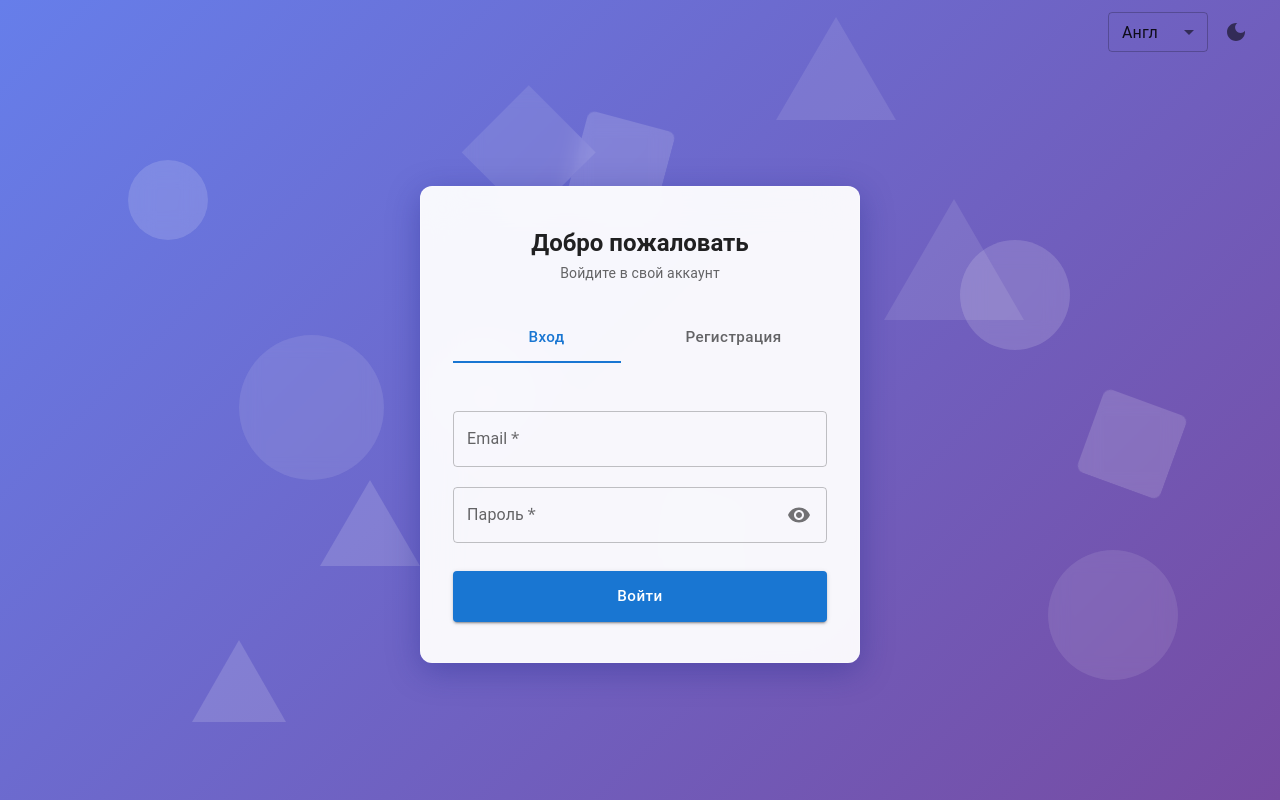
Test: LoginPage › should switch to registration form
This screenshot has width=1280, height=800.
Expected: the field labelled "Email *" is shown, [453,411,827,467]
What coordinates should you click on to do the following:
click the tab "Регистрация"
I would click on:
 (734, 337)
Its box is [640,315,827,359].
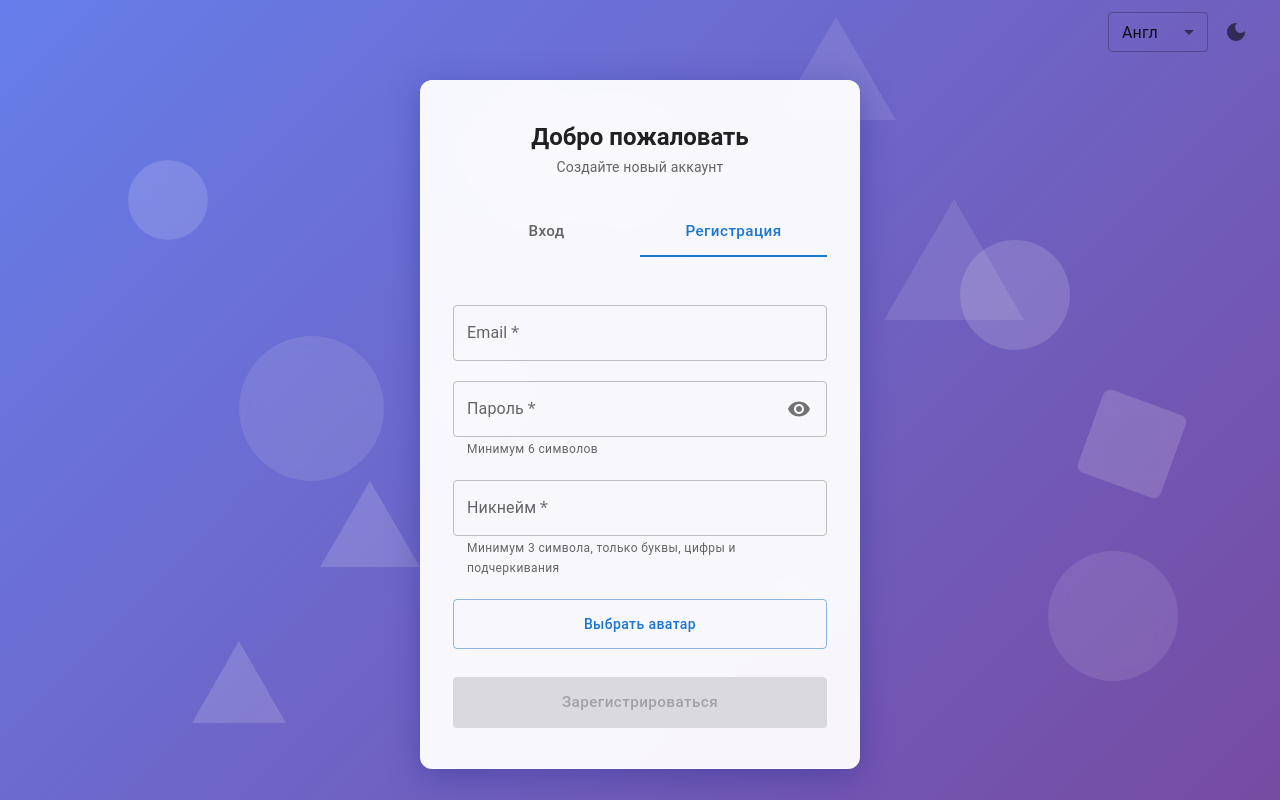
Expected: the field labelled "Никнейм *" is shown, [453,480,827,536]
